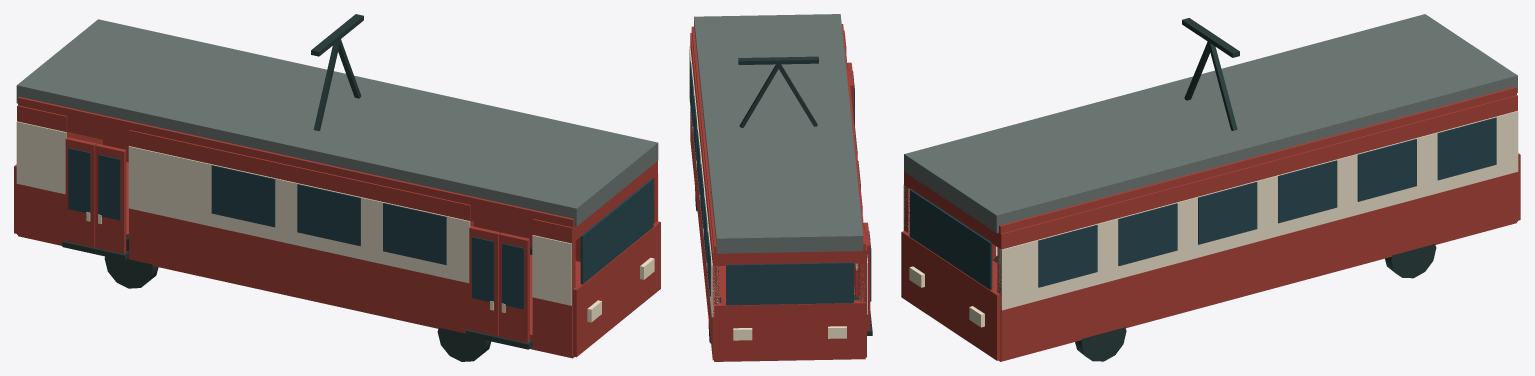
File: tram-retro.glb
3 views of the same model, side by side, from view 1: azimuth 30°, elevation 25°; view 2: azimuth 150°, elevation 25°; view 3: azimuth 270°, elevation 25° (orthographic). The views are drawn at different scales.
Visible parts, largest first — view 1: Ретро, Правая раздвижная дверь (×4); view 2: Ретро, Правая раздвижная дверь (×2); view 3: Ретро.
Boxes of the visible parts, left/top/right/bottom form: Ретро: left=14, top=14, right=660, bottom=361; Правая раздвижная дверь (×4): left=65, top=137, right=529, bottom=342; Ретро: left=689, top=14, right=872, bottom=361; Правая раздвижная дверь (×2): left=849, top=74, right=871, bottom=330; Ретро: left=901, top=14, right=1520, bottom=361.
Bounding box in the file's own units: 8.69 × 5 × 11.12.
